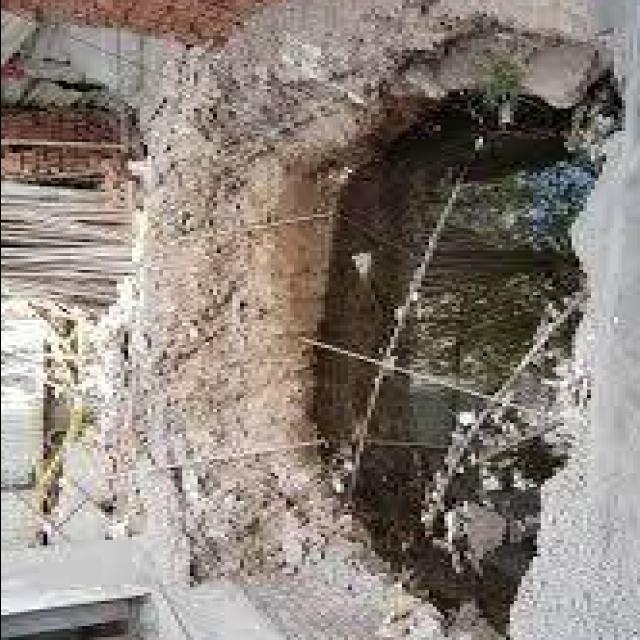Breeding Place: (320, 53, 622, 640)
